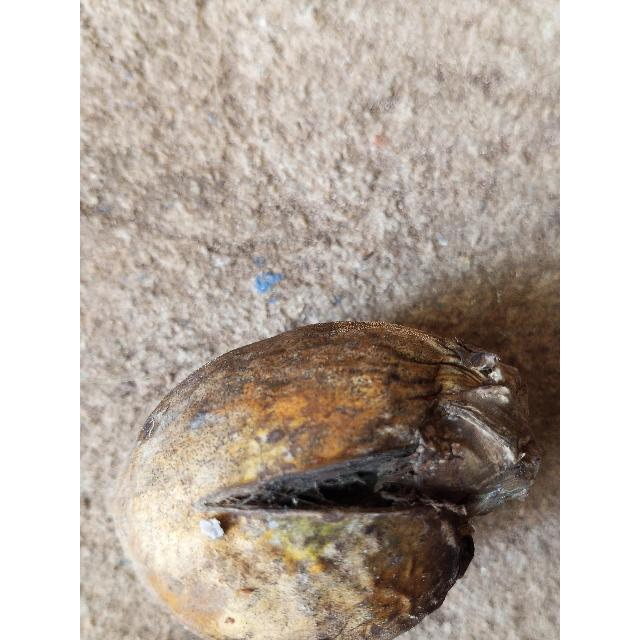damaged: (113, 321, 522, 640)
